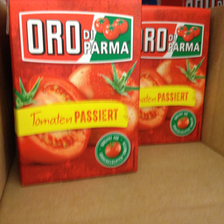tomato_sauce: (8, 1, 141, 187), (139, 4, 211, 145)
